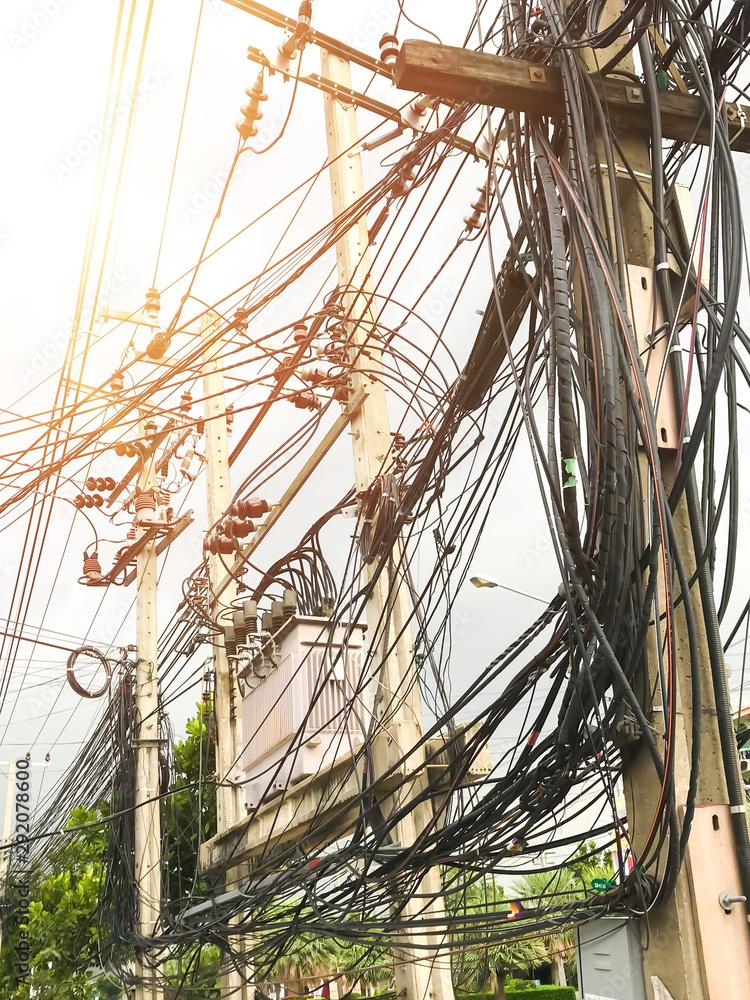wires: (453, 115, 710, 918), (313, 332, 445, 640), (88, 865, 463, 970)
